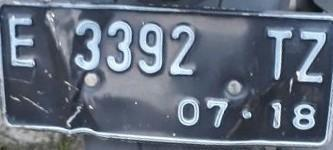2: (164, 20, 204, 80)
3: (68, 18, 104, 73), (101, 18, 132, 76)
9: (131, 20, 168, 78)
E: (4, 13, 42, 75)
T: (258, 24, 296, 85)
Z: (288, 27, 328, 94)
